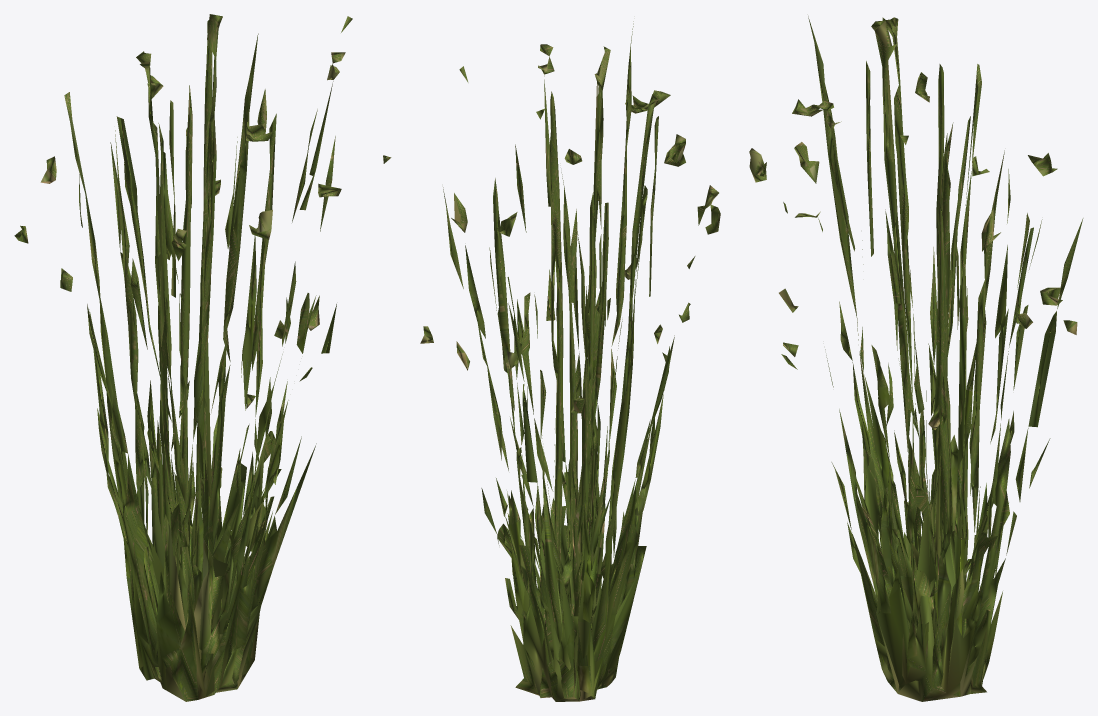
Rendered from juncos.glb.
3 renders of one model, left to right at view 1: azimuth 30°, elevation 25°; view 2: azimuth 150°, elevation 25°; view 3: azimuth 270°, elevation 25°, orthographic. The views are drawn at different scales.
Visible parts, largest first — view 1: cerca, medio, lejos; view 2: cerca, medio, lejos; view 3: cerca, medio, lejos.
Part boxes in pixels (x1,y1,x2,y2): cerca: [14, 14, 391, 701]; medio: [65, 14, 340, 695]; lejos: [124, 344, 262, 701]; cerca: [423, 21, 720, 701]; medio: [420, 62, 718, 701]; lejos: [514, 286, 638, 701]; cerca: [749, 16, 1083, 701]; medio: [749, 21, 1077, 701]; lejos: [757, 161, 996, 701].
Bounding box in the file's own units: 0.5802 × 1.3 × 0.59.
Materials: 2 (1 with a texture image).
